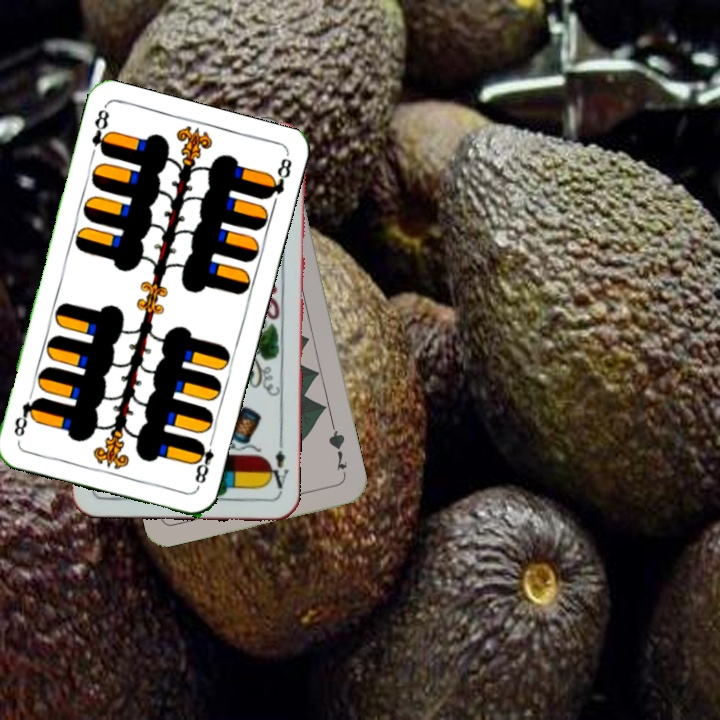E8: (189, 432, 217, 490), (87, 103, 113, 158)
EA: (264, 436, 292, 495)
G7: (324, 422, 350, 473)
